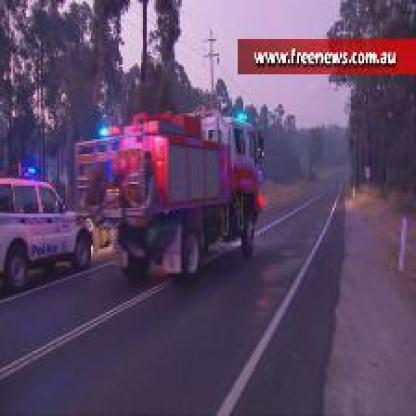other: (108, 115, 176, 179)
